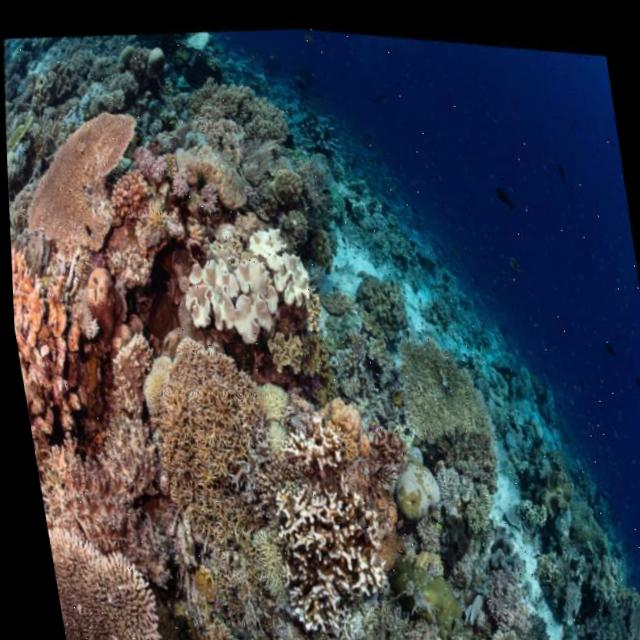Bleached Coral: (166, 204, 325, 356)
Healthy Coral: (109, 320, 268, 549), (24, 401, 170, 546), (40, 506, 174, 640), (384, 320, 501, 449), (16, 127, 117, 259), (178, 57, 303, 152), (8, 234, 95, 364), (253, 312, 346, 402), (345, 254, 421, 344), (234, 510, 292, 606), (100, 160, 151, 221), (124, 135, 176, 187), (262, 158, 307, 204), (303, 214, 338, 272), (295, 281, 328, 330), (143, 193, 170, 230), (192, 174, 219, 210), (334, 335, 360, 372), (167, 166, 187, 194)
